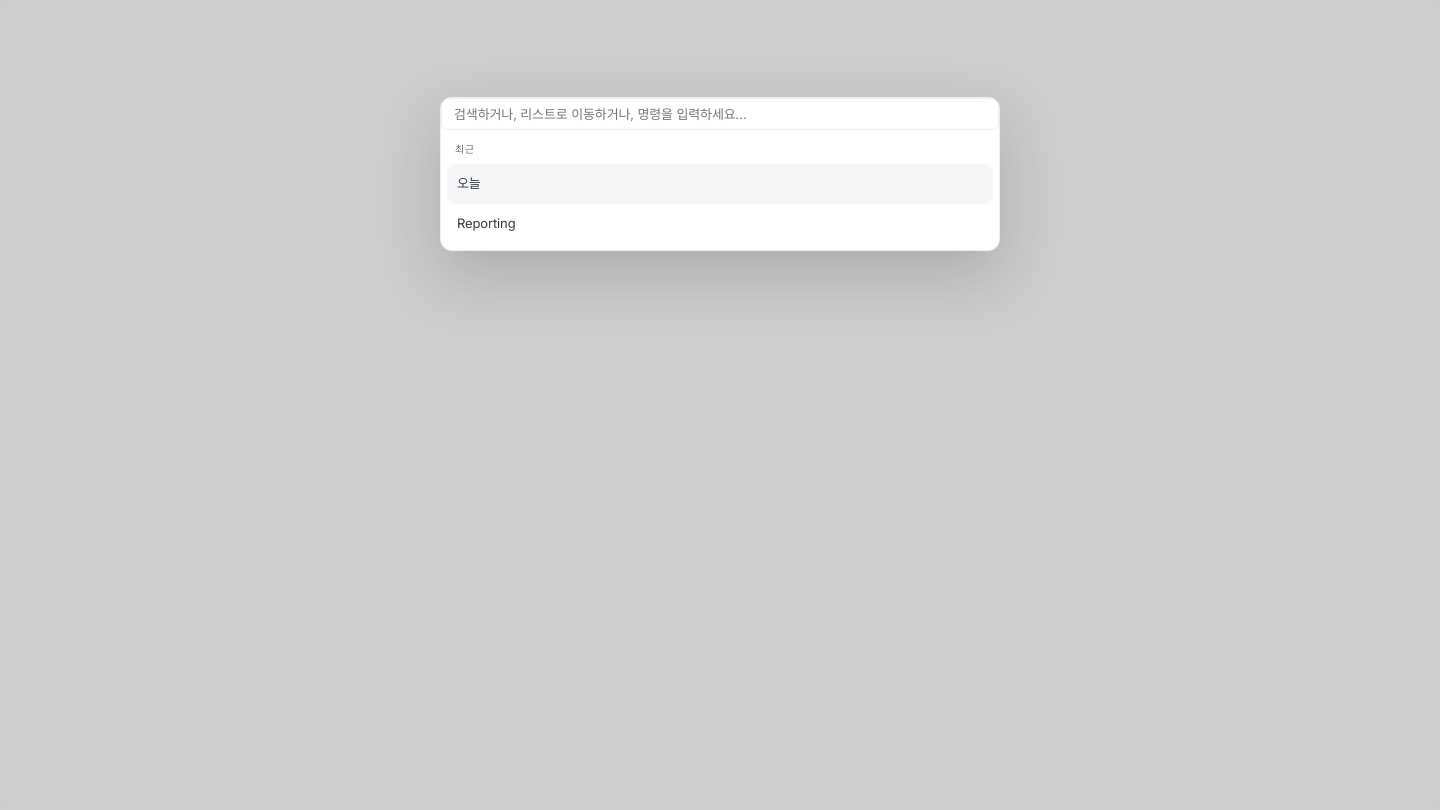
Scenario: opened from a page that is not a Scope (D-25) › still offers the destinations, and drops the commands that needed a Scope
Type "이동" into the dropdown. click: (720, 114)
box: [441,98,999,130]
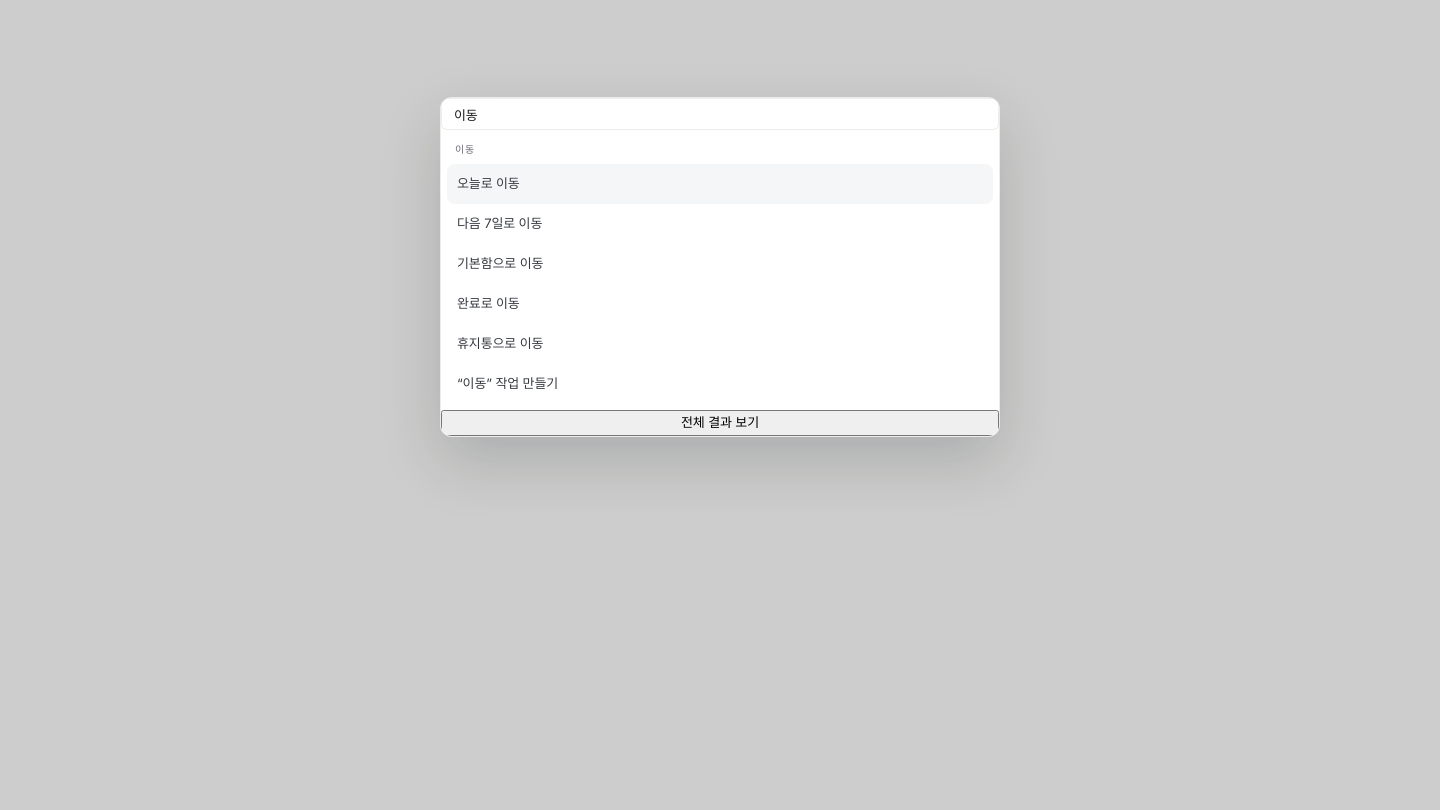
Check: the text "오늘로 이동" is shown, box [457,174,520,194]
